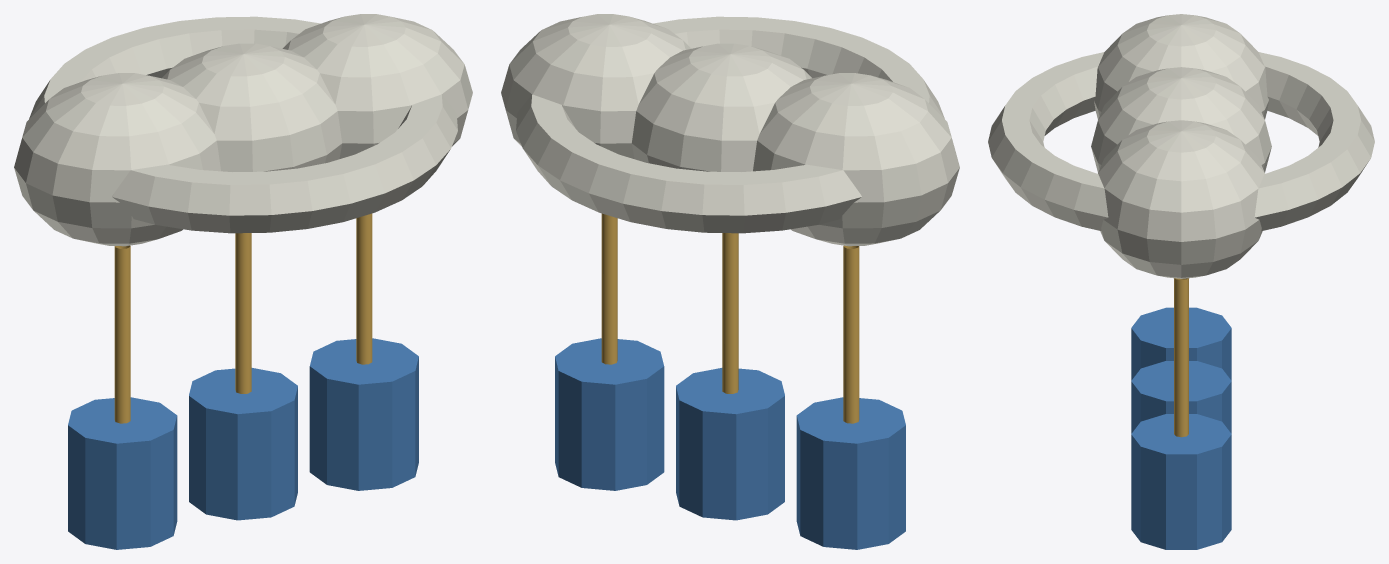
The model's file is greece-cloud-chime.glb.
The picture shows the model from 3 angles, left to right: view 1: azimuth 30°, elevation 25°; view 2: azimuth 150°, elevation 25°; view 3: azimuth 270°, elevation 25°; orthographic projection. The views are drawn at different scales.
Visible parts, largest first — view 1: くもの わ, くも, くも.001, くも.002, あおい ふうりん, あおい ふうりん.002, あおい ふうりん.001, ふうりんの いと, ふうりんの いと.001, ふうりんの いと.002; view 2: くもの わ, くも, くも.001, くも.002, あおい ふうりん, あおい ふうりん.002, あおい ふうりん.001, ふうりんの いと, ふうりんの いと.001, ふうりんの いと.002; view 3: くもの わ, くも.002, あおい ふうりん.002, くも.001, くも, あおい ふうりん, あおい ふうりん.001, ふうりんの いと.002.
Boxes of the visible parts, left/top/right/bottom form: くもの わ: left=29, top=16, right=457, bottom=233; くも: left=14, top=73, right=220, bottom=246; くも.001: left=162, top=43, right=342, bottom=171; くも.002: left=282, top=14, right=472, bottom=158; あおい ふうりん: left=68, top=397, right=177, bottom=549; あおい ふうりん.002: left=309, top=338, right=418, bottom=490; あおい ふうりん.001: left=189, top=368, right=297, bottom=520; ふうりんの いと: left=114, top=245, right=130, bottom=423; ふうりんの いと.001: left=235, top=233, right=251, bottom=393; ふうりんの いと.002: left=356, top=213, right=372, bottom=364; くもの わ: left=516, top=16, right=944, bottom=233; くも: left=753, top=73, right=959, bottom=246; くも.001: left=631, top=43, right=811, bottom=171; くも.002: left=501, top=14, right=691, bottom=158; あおい ふうりん: left=796, top=397, right=905, bottom=549; あおい ふうりん.002: left=555, top=338, right=664, bottom=490; あおい ふうりん.001: left=676, top=368, right=784, bottom=520; ふうりんの いと: left=843, top=245, right=859, bottom=423; ふうりんの いと.001: left=722, top=233, right=738, bottom=393; ふうりんの いと.002: left=601, top=213, right=617, bottom=364; くもの わ: left=988, top=52, right=1374, bottom=230; くも.002: left=1098, top=120, right=1264, bottom=278; あおい ふうりん.002: left=1131, top=414, right=1231, bottom=549; くも.001: left=1091, top=67, right=1271, bottom=172; くも: left=1094, top=14, right=1268, bottom=119; あおい ふうりん: left=1131, top=307, right=1231, bottom=380; あおい ふうりん.001: left=1131, top=361, right=1231, bottom=433; ふうりんの いと.002: left=1174, top=278, right=1188, bottom=437.
Size of the model in its own units: 0.9 by 0.875 by 0.77.
